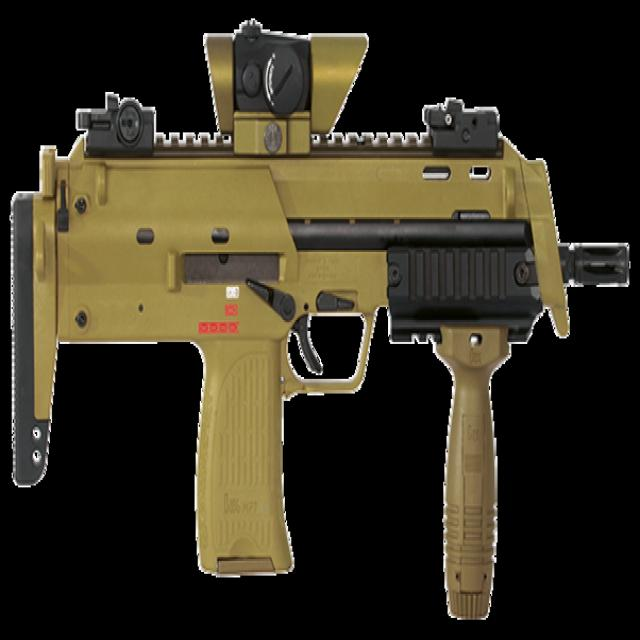SMG: (10, 22, 630, 622)
